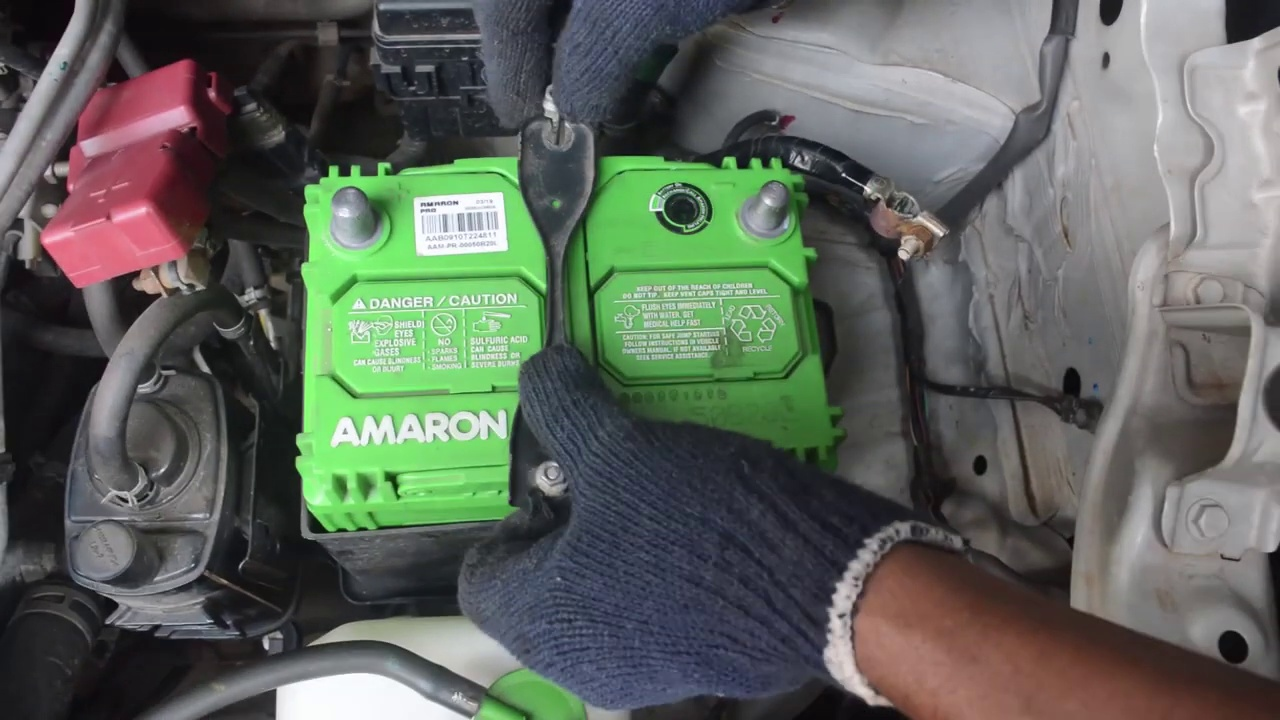battery: (296, 170, 834, 486)
neg_disconnected: (715, 175, 819, 254)
pos_disconnected: (84, 95, 410, 299)
